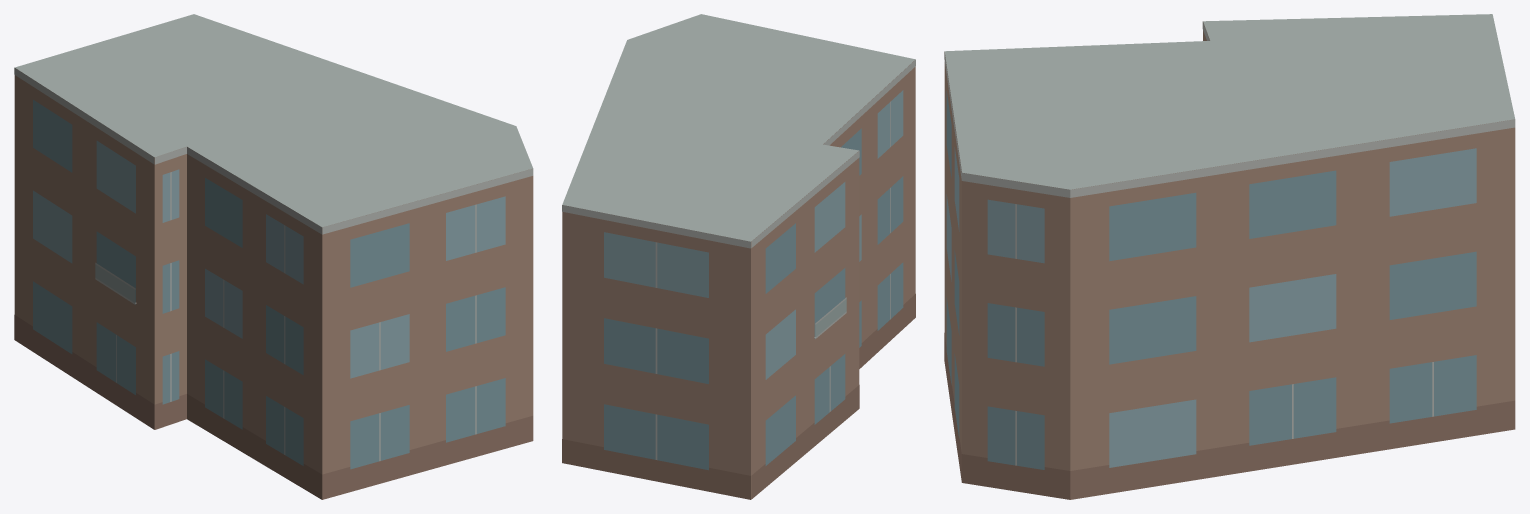
The model's file is survey-upis-32777982.glb.
3 views of the same model, side by side, from view 1: azimuth 30°, elevation 25°; view 2: azimuth 150°, elevation 25°; view 3: azimuth 270°, elevation 25° (orthographic). The views are drawn at different scales.
Parts seen in each view (by area): view 1: survey-upis-32777982.tmp; view 2: survey-upis-32777982.tmp; view 3: survey-upis-32777982.tmp.
Boxes of the visible parts, x1,y1,x2,y2 form: survey-upis-32777982.tmp: [14, 14, 533, 499]; survey-upis-32777982.tmp: [562, 14, 915, 499]; survey-upis-32777982.tmp: [944, 14, 1515, 499].
Bounding box in the file's own units: 11.12 × 9.15 × 15.27.
